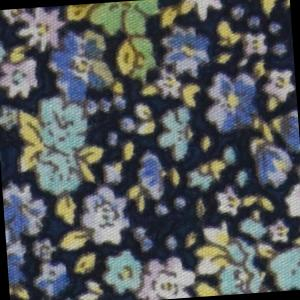Stain: (63, 1, 187, 104)
